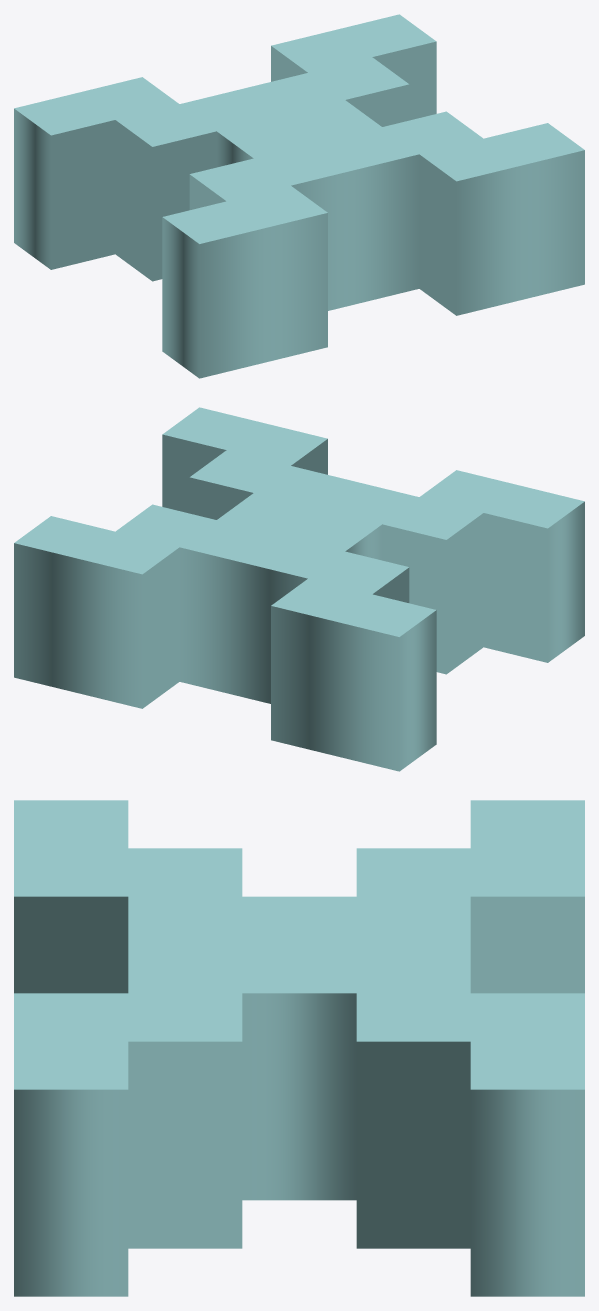
File: social_media_x.glb
The picture shows the model from 3 angles, top to bottom: view 1: azimuth 30°, elevation 25°; view 2: azimuth 150°, elevation 25°; view 3: azimuth 270°, elevation 25°; orthographic projection. The views are drawn at different scales.
Visible parts, largest first — view 1: Text; view 2: Text; view 3: Text.
Part boxes in pixels (x1,y1,x2,y2): Text: (14, 14, 584, 378); Text: (14, 407, 584, 771); Text: (14, 800, 584, 1296).
Size of the model in its own units: 0.6 by 0.2 by 0.5.
